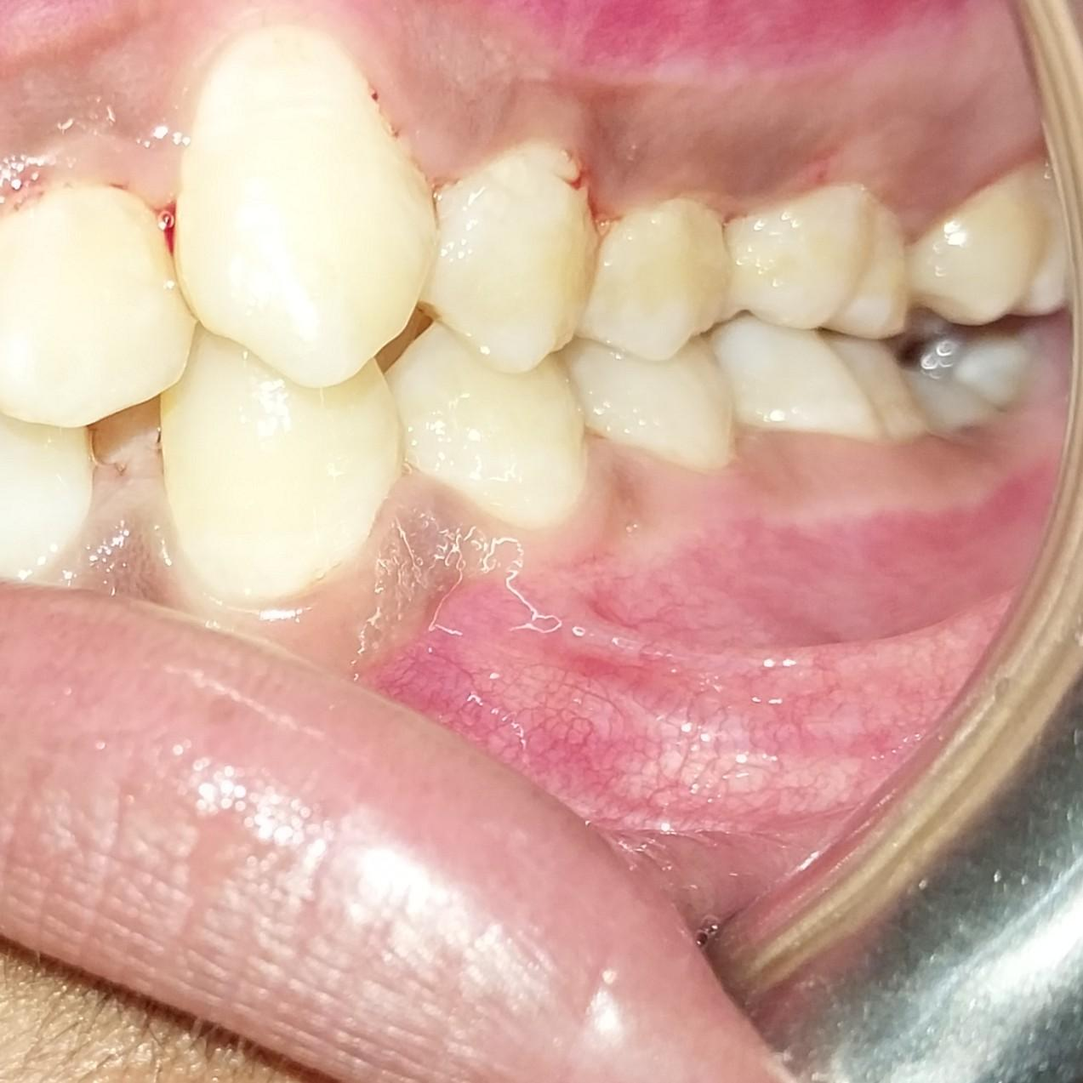tooth: (205, 90, 387, 354), (0, 210, 156, 385), (197, 375, 344, 550), (442, 185, 560, 357), (421, 368, 549, 493), (629, 208, 717, 339), (593, 345, 704, 444), (748, 210, 843, 319), (719, 341, 833, 422), (915, 239, 1020, 318), (18, 435, 81, 555), (920, 359, 992, 431)
